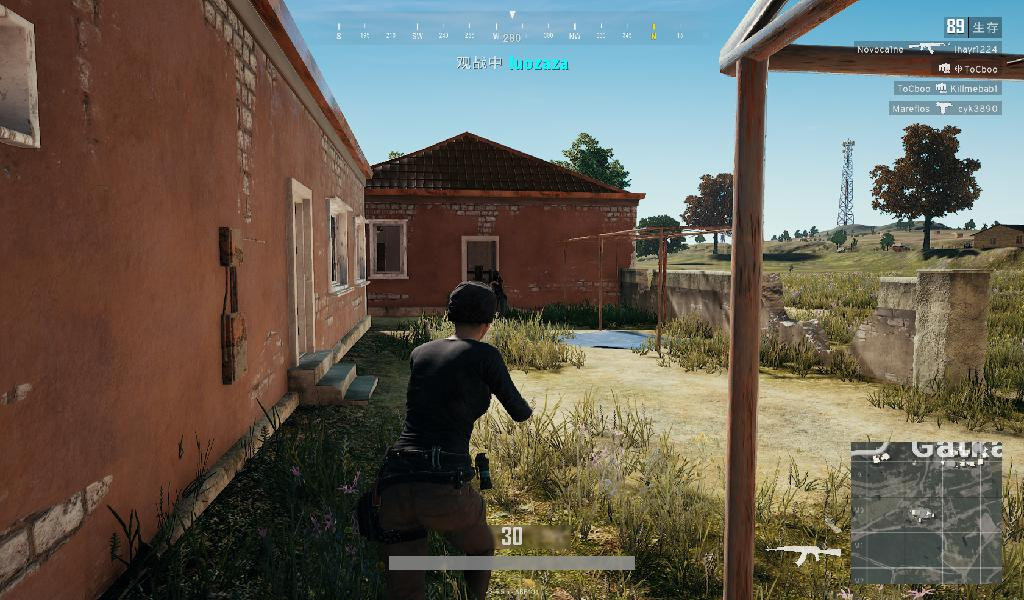Target Person: (379, 281, 533, 600)
